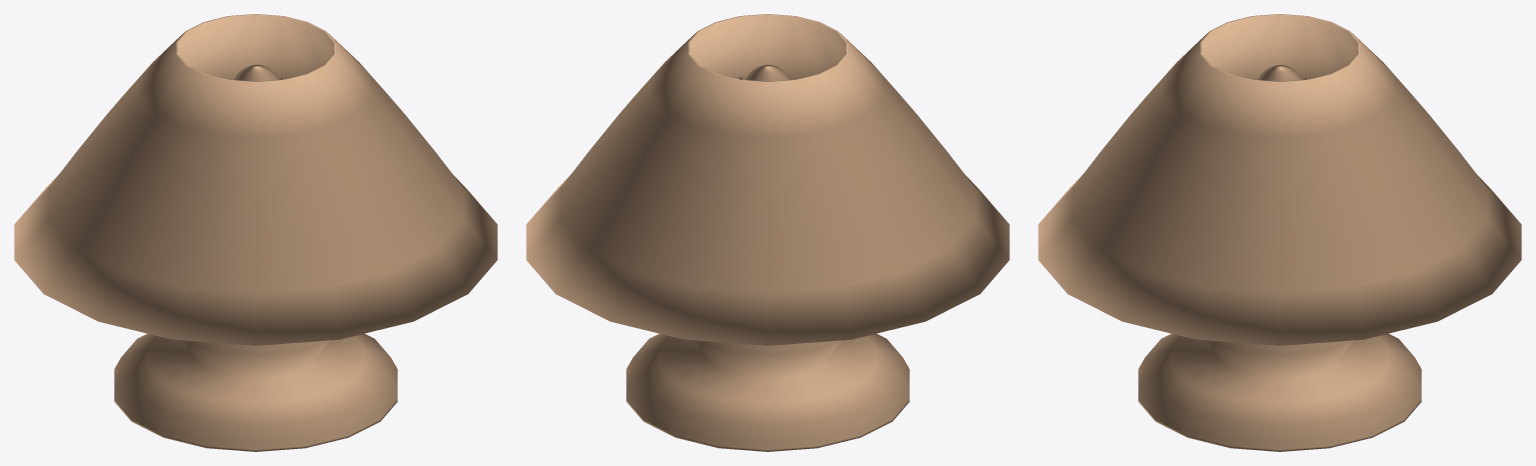
Rendered from Lamp.fbx.
The picture shows the model from 3 angles, left to right: view 1: azimuth 30°, elevation 25°; view 2: azimuth 150°, elevation 25°; view 3: azimuth 270°, elevation 25°; orthographic projection.
Visible parts, largest first — view 1: Lamp:Cylinder001; view 2: Lamp:Cylinder001; view 3: Lamp:Cylinder001.
Part boxes in pixels (bbox=[...]): Lamp:Cylinder001: bbox=[14, 14, 497, 451]; Lamp:Cylinder001: bbox=[526, 14, 1009, 451]; Lamp:Cylinder001: bbox=[1038, 14, 1521, 451].
Bounding box in the file's own units: 37.69 × 29.07 × 37.12.
